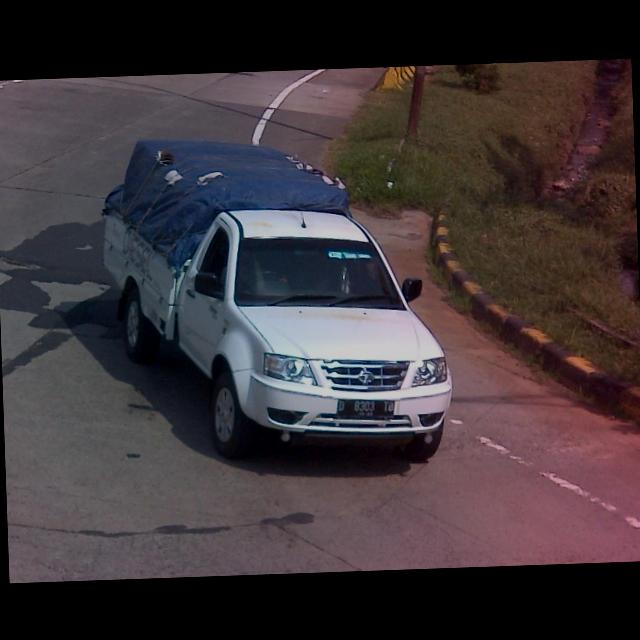plate: (335, 395, 397, 421)
